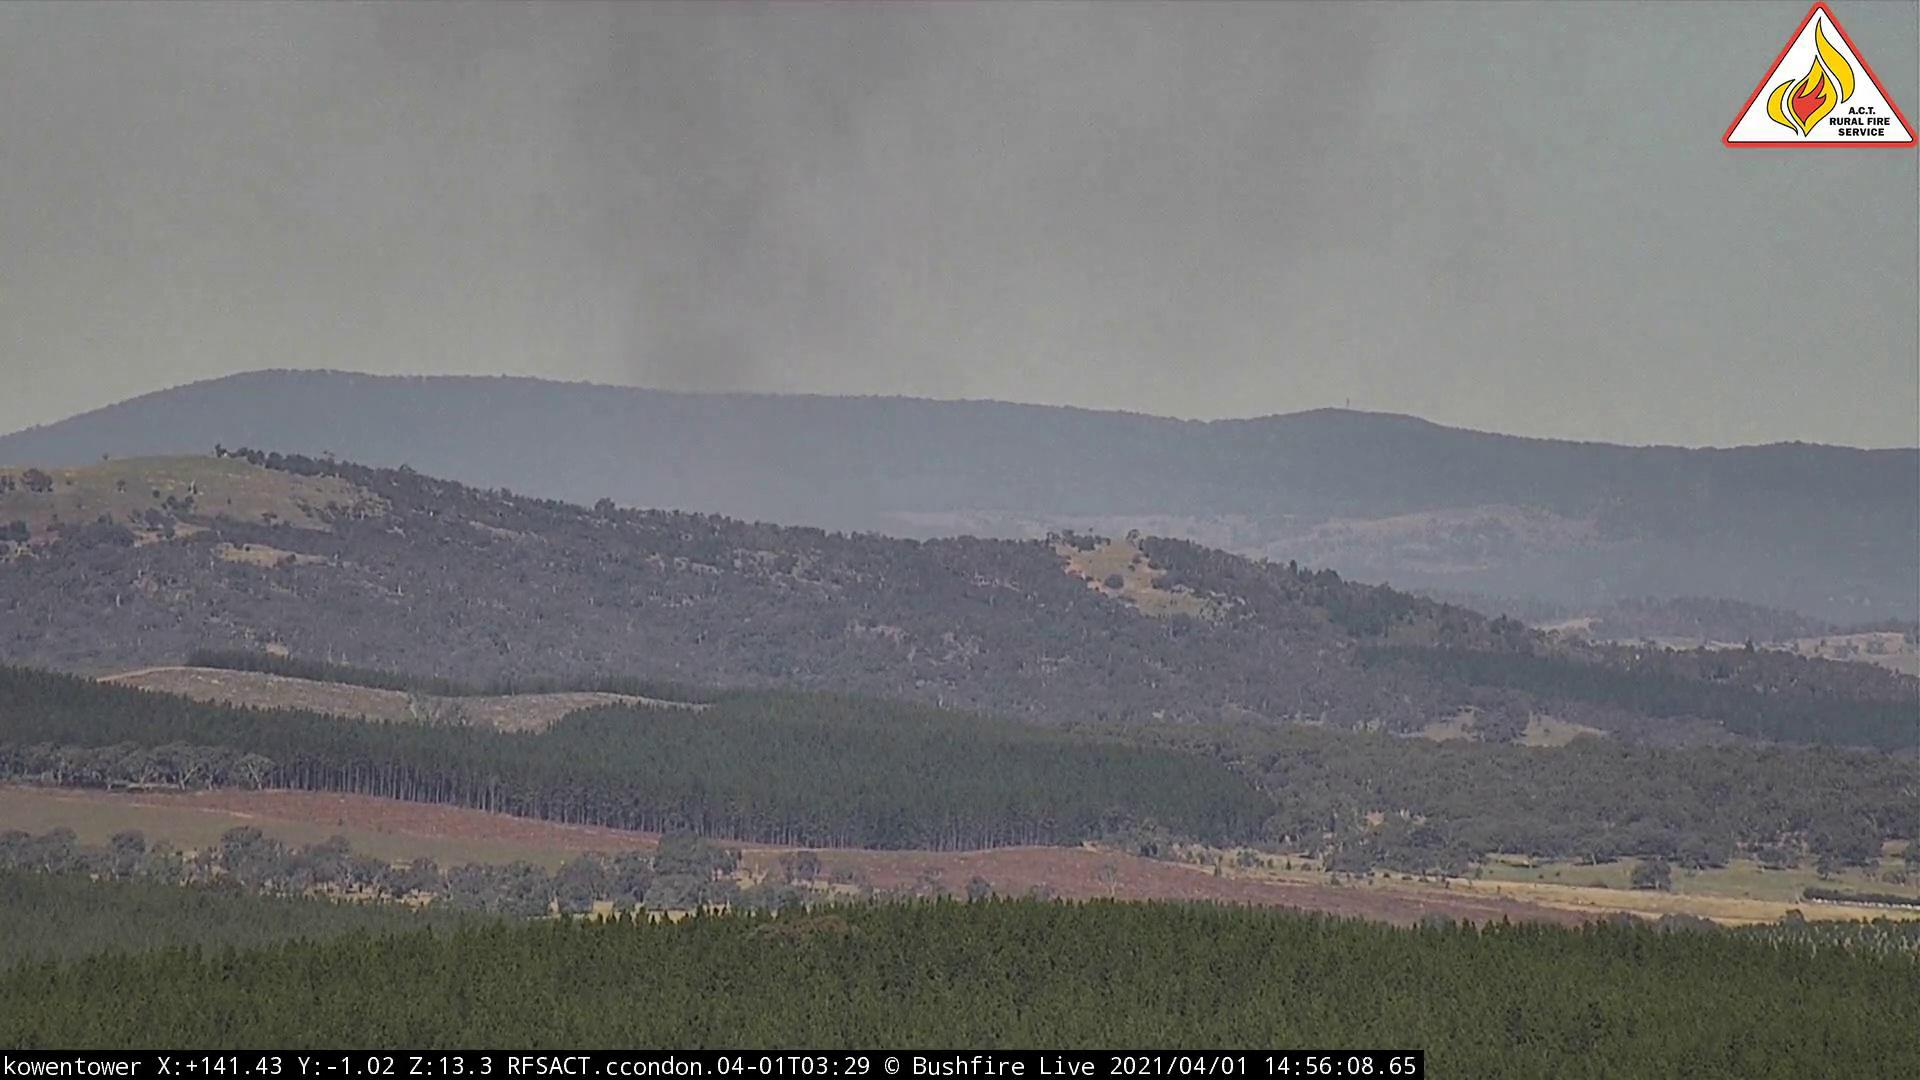Smoke: (537, 3, 1431, 460)
